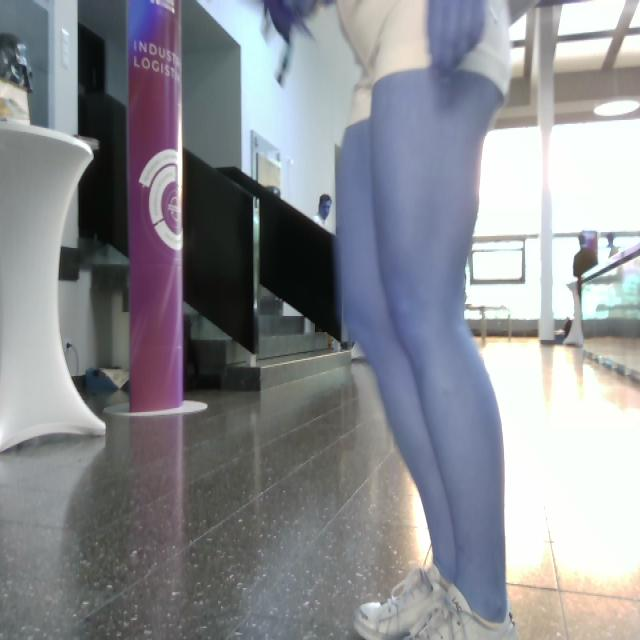light bulb: (1, 118, 107, 453)
person: (313, 194, 332, 229)
pillar: (126, 1, 185, 413), (535, 5, 562, 342)
staircase: (182, 146, 355, 392)
tiled floor: (1, 333, 639, 638)
